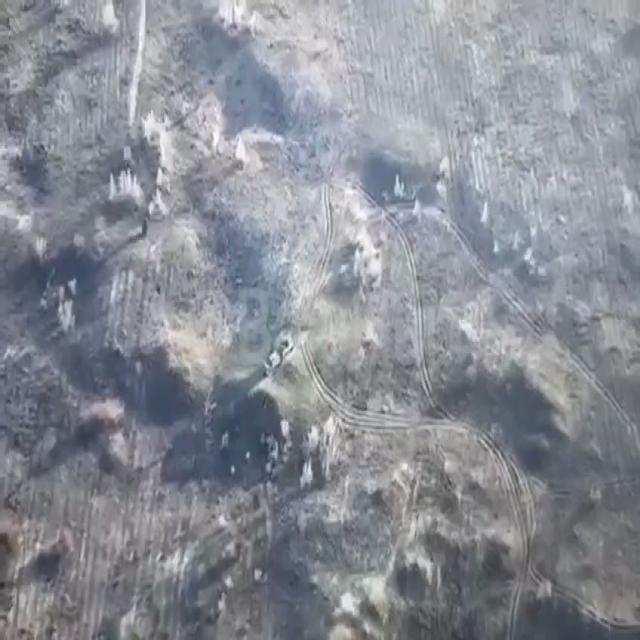cars: (263, 350, 280, 376)
